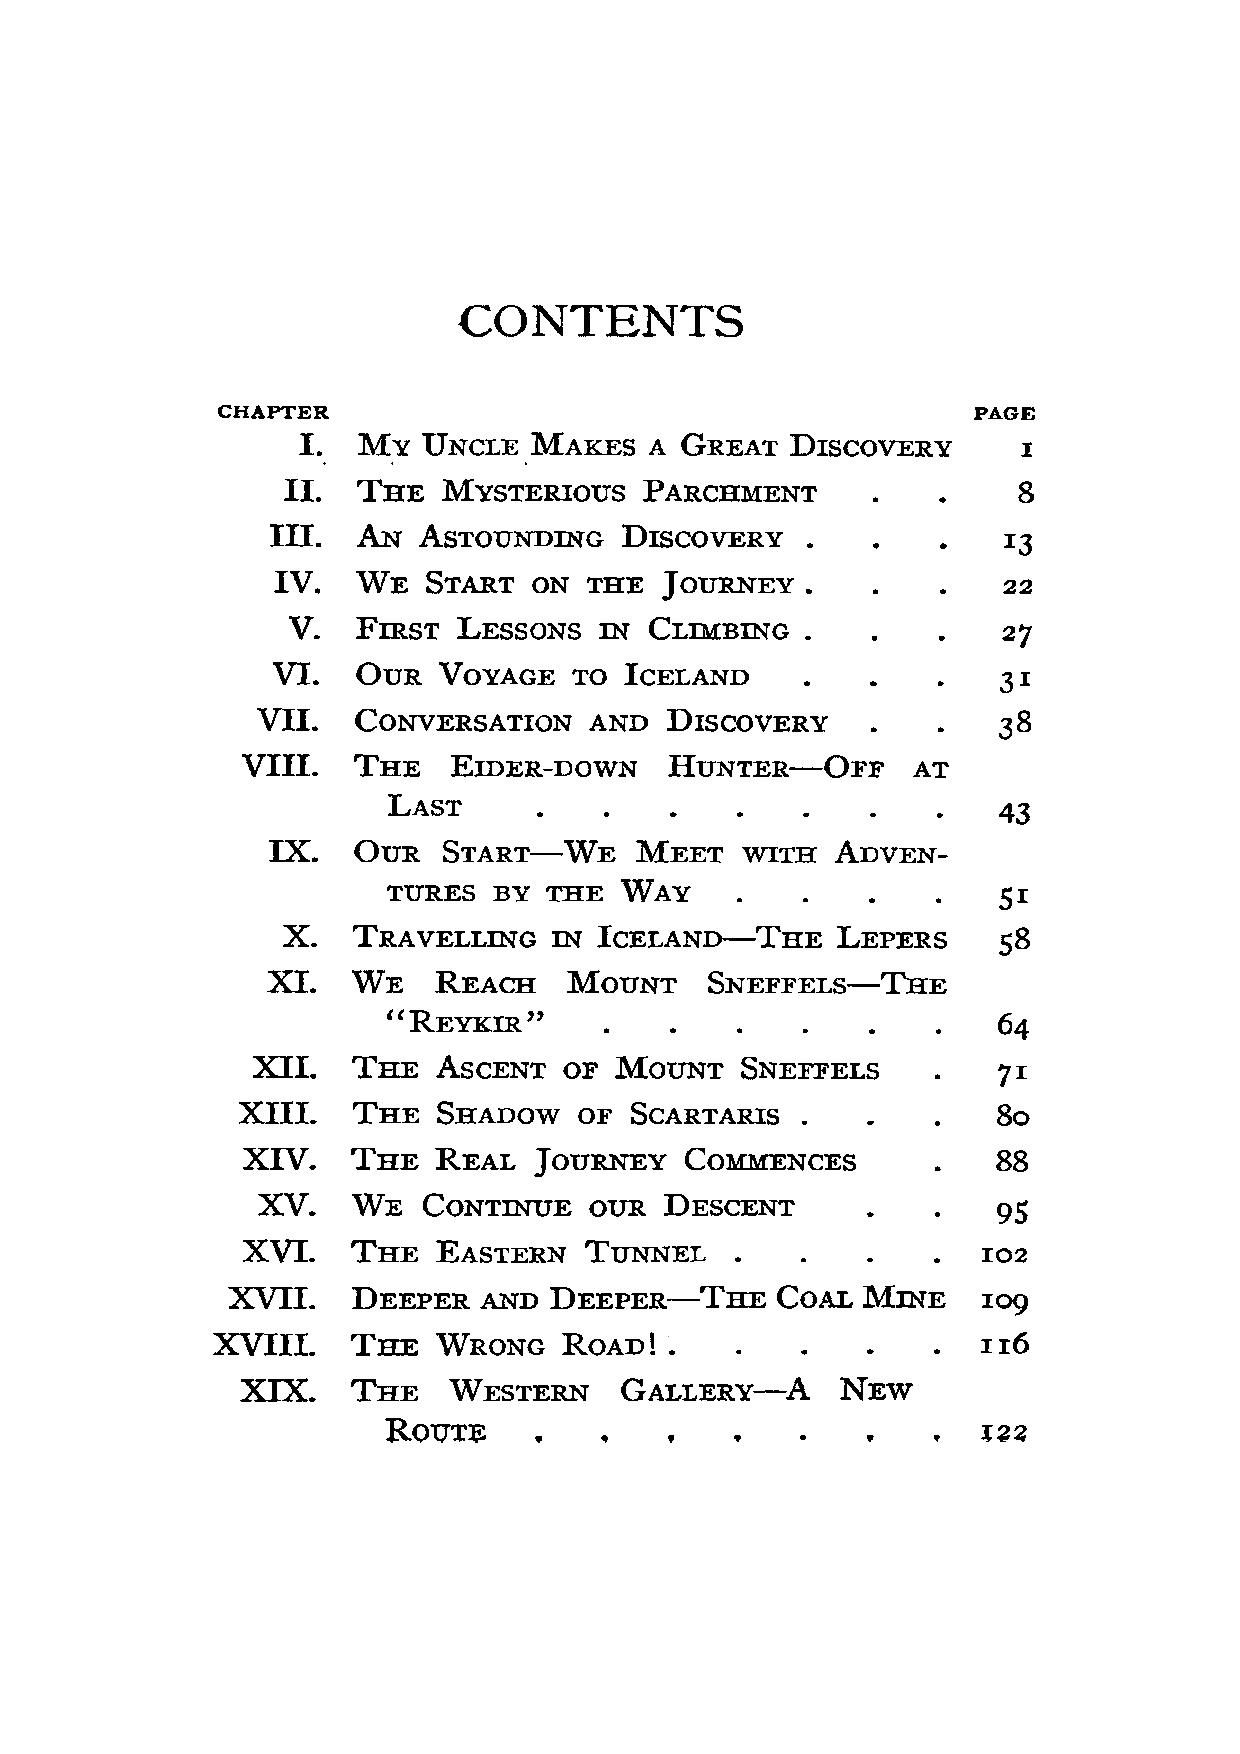TOC_chapter: (239, 1372, 914, 1445), (264, 833, 955, 905), (238, 747, 954, 816), (268, 968, 951, 1036), (225, 1282, 951, 1312), (293, 427, 960, 460), (248, 1049, 880, 1084), (264, 564, 800, 604), (236, 1142, 860, 1176), (278, 922, 947, 951), (255, 1188, 794, 1223), (238, 1095, 782, 1129), (283, 472, 821, 506), (251, 703, 832, 734), (260, 518, 790, 552), (285, 611, 793, 646), (270, 656, 752, 688), (242, 1235, 709, 1267), (207, 1329, 658, 1359)
TOC_pagenumber: (978, 1329, 1033, 1355), (978, 1288, 1029, 1317), (990, 1145, 1033, 1177), (981, 1417, 1032, 1444), (994, 1008, 1031, 1043), (996, 666, 1036, 697), (997, 706, 1031, 741), (1000, 798, 1037, 828), (1000, 576, 1047, 599), (981, 1244, 1031, 1266), (1000, 621, 1037, 650), (996, 1059, 1029, 1088), (994, 1100, 1032, 1126), (998, 925, 1031, 954), (997, 1198, 1031, 1227), (1013, 476, 1037, 510), (1000, 884, 1028, 911), (1002, 529, 1033, 552), (1019, 429, 1037, 462)
chapter: (456, 297, 747, 344)
